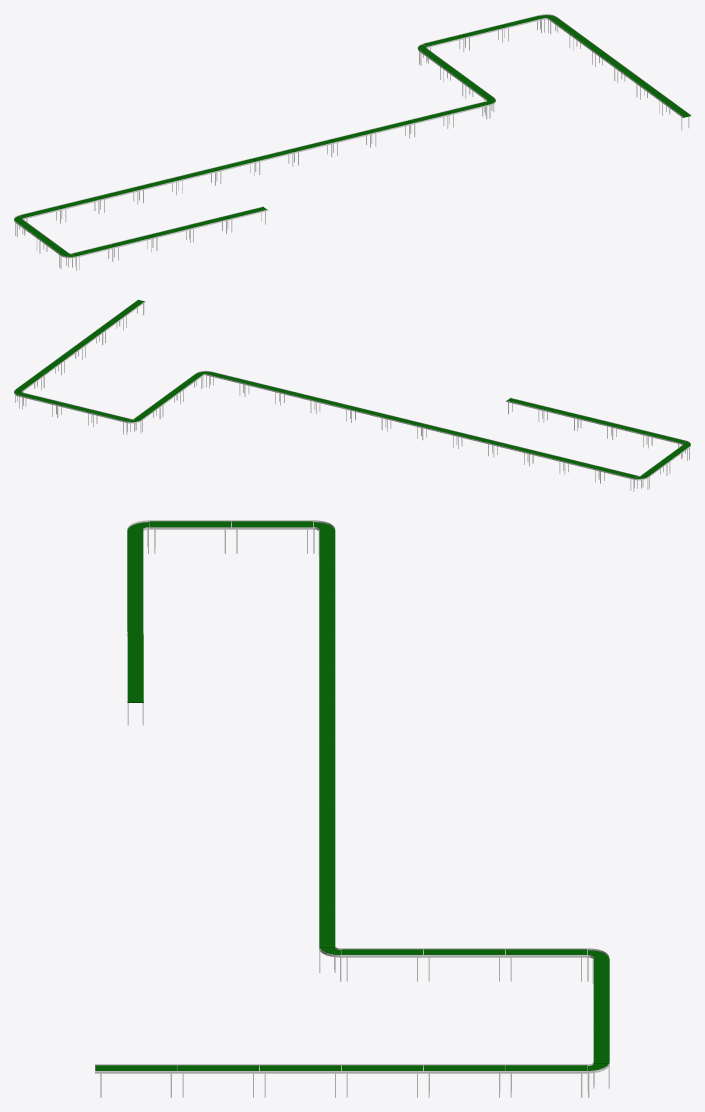
File: conveyor1.dae
The picture shows the model from 3 angles, top to bottom: view 1: azimuth 30°, elevation 25°; view 2: azimuth 150°, elevation 25°; view 3: azimuth 270°, elevation 25°; orthographic projection. The views are drawn at different scales.
Size of the model in its own units: 1926 by 761 by 43.31.
